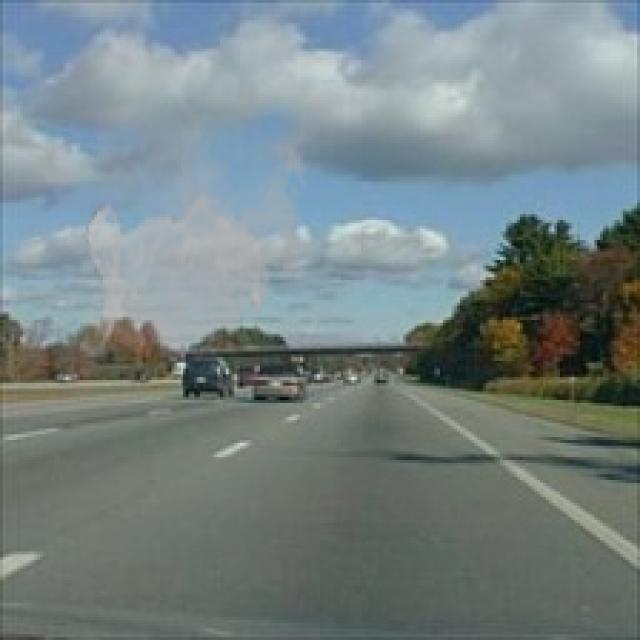Smoke: (80, 114, 314, 366)
